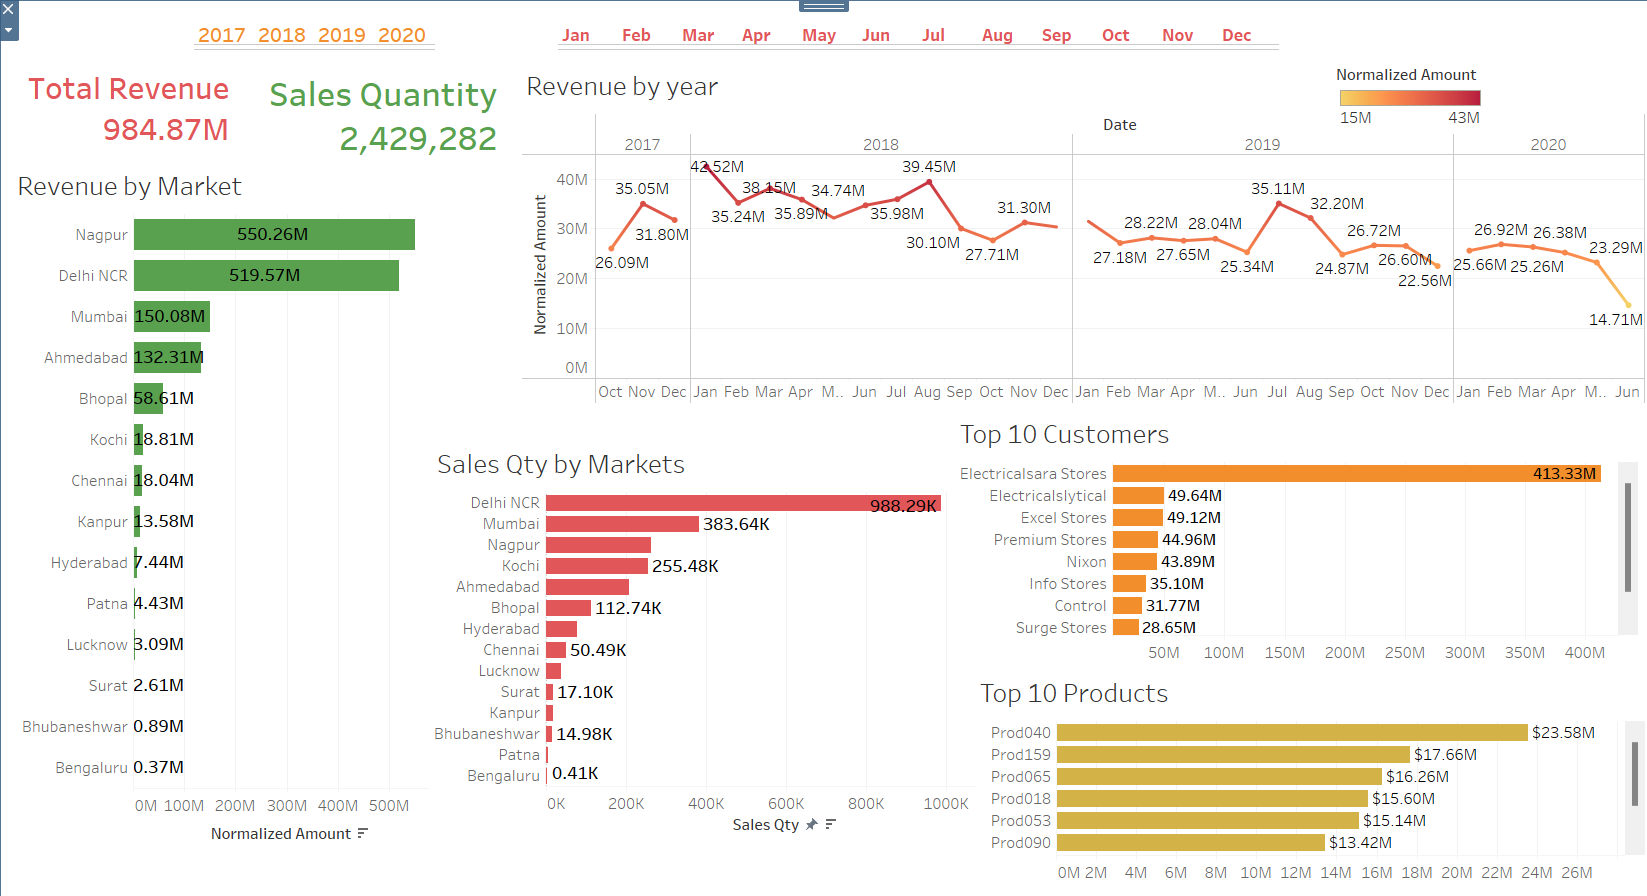

Layout of this report page (visuals, bound fields, positions):
{"tool":"tableau","page":{"name":"Dashboard 1 - Revenue Analysis","canvas":[1650,900],"ordinal":0},"visuals":[{"type":"worksheet","title":"Year","mark":"Automatic","cols":["cy_date"],"box":[195,10,260,51]},{"type":"worksheet","title":"Month","mark":"Automatic","cols":["cy_date"],"box":[559,10,756,57]},{"type":"worksheet","title":"Revenue by year","mark":"Automatic","rows":["Calculation_597852904599560192"],"cols":["date","date"],"box":[523,65,1123,340]},{"type":"legend","title":"Revenue by year","param":"[federated.19n4rc603dqwze1dh8f9y1f2irek].[sum:Calculation_597852904599560192:qk]","box":[1337,65,149,59]},{"type":"worksheet","title":"Revenue","mark":"Automatic","box":[15,68,254,116]},{"type":"worksheet","title":"Quantity","mark":"Automatic","box":[263,71,265,101]},{"type":"worksheet","title":"Revenue by Market","mark":"Automatic","rows":["markets_name"],"cols":["Calculation_597852904599560192"],"box":[14,165,416,735]},{"type":"worksheet","title":"Top 10 Customers","mark":"Automatic","rows":["custmer_name"],"cols":["Calculation_597852904599560192"],"box":[957,413,682,266]},{"type":"worksheet","title":"Sales Qty by Markets","mark":"Automatic","rows":["markets_name"],"cols":["sales_qty"],"box":[434,443,554,423]},{"type":"worksheet","title":"Top 10 Products","mark":"Automatic","rows":["product_code (products)"],"cols":["Calculation_597852904599560192"],"box":[977,672,669,227]}]}

Visuals, with their boxes in screenshot pixels (x1, y1, x2, y2), scaled from the page's 1650x900 canvas onto the 1647x896 screenshot:
"Year" worksheet: select_region(195, 10, 454, 61)
"Month" worksheet: select_region(558, 10, 1313, 67)
"Revenue by year" worksheet: select_region(522, 65, 1643, 403)
"Revenue by year" legend: select_region(1335, 65, 1483, 123)
"Revenue" worksheet: select_region(15, 68, 269, 183)
"Quantity" worksheet: select_region(263, 71, 527, 171)
"Revenue by Market" worksheet: select_region(14, 164, 429, 895)
"Top 10 Customers" worksheet: select_region(955, 411, 1636, 676)
"Sales Qty by Markets" worksheet: select_region(433, 441, 986, 862)
"Top 10 Products" worksheet: select_region(975, 669, 1643, 895)
